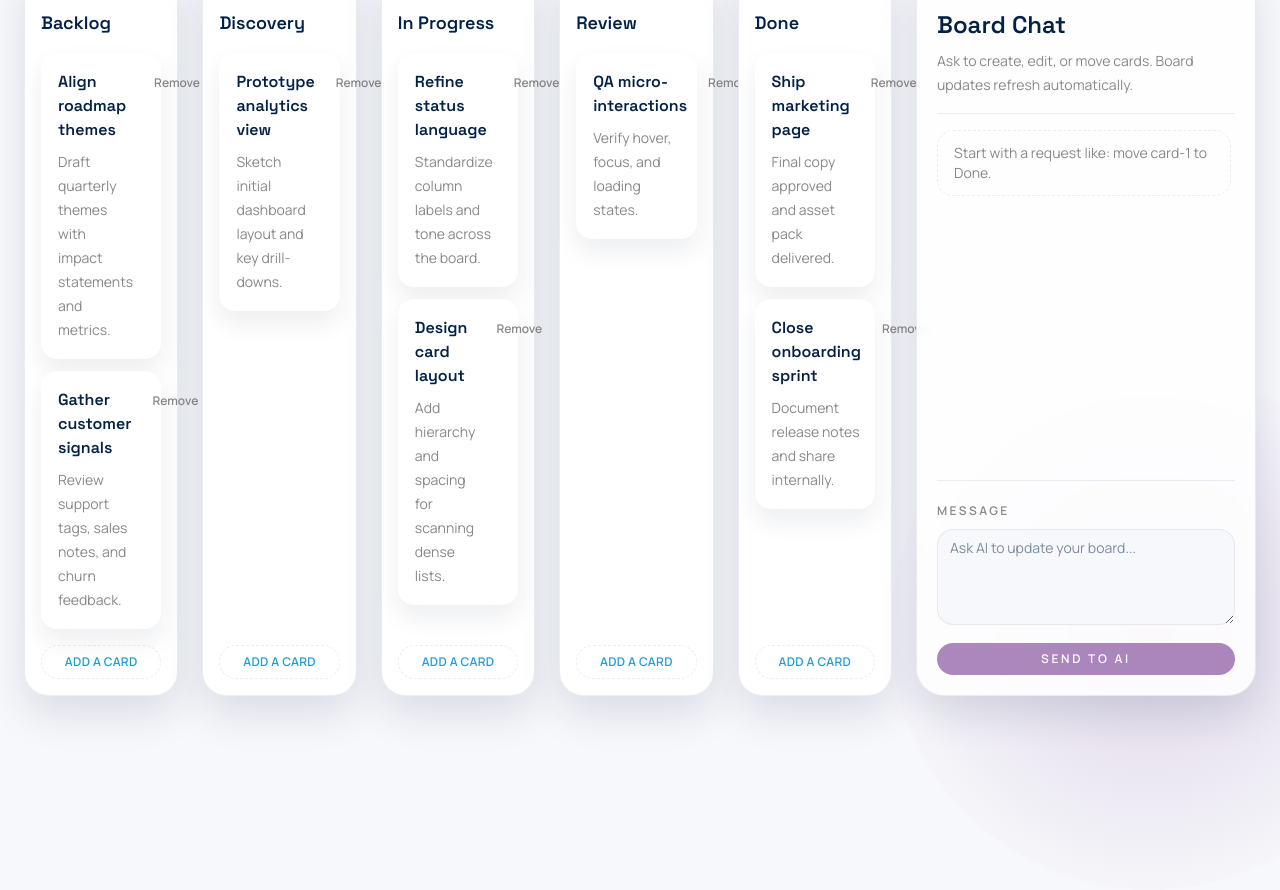
Test: KanbanBoard › shows error when AI chat request fails
This screenshot has width=1280, height=890.
(page scrolled)
Type "trigger error" into the text box labelled "Message" at (1086, 577), box [937,529,1235,625]
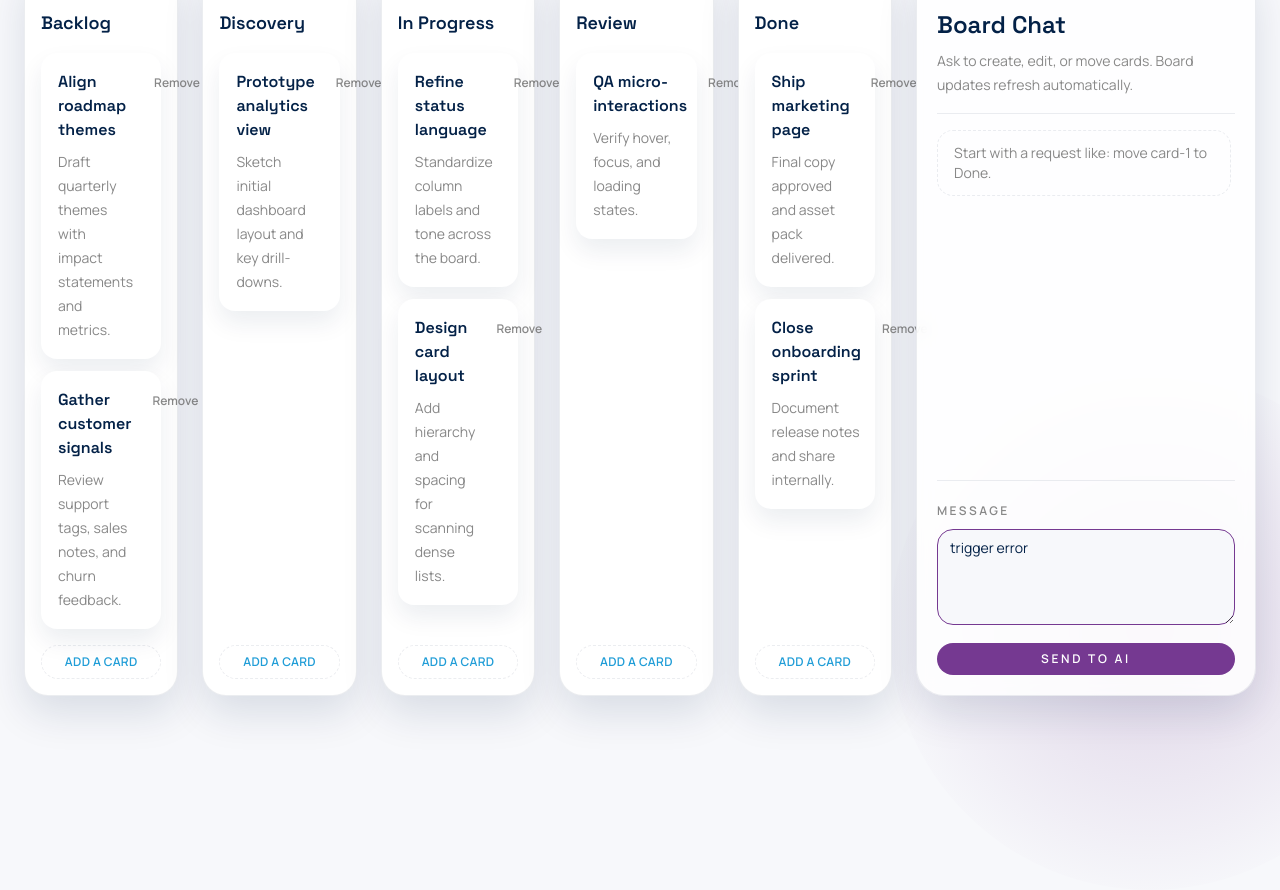
Click the button "Send to AI" at (1086, 659), box [937,643,1235,675]
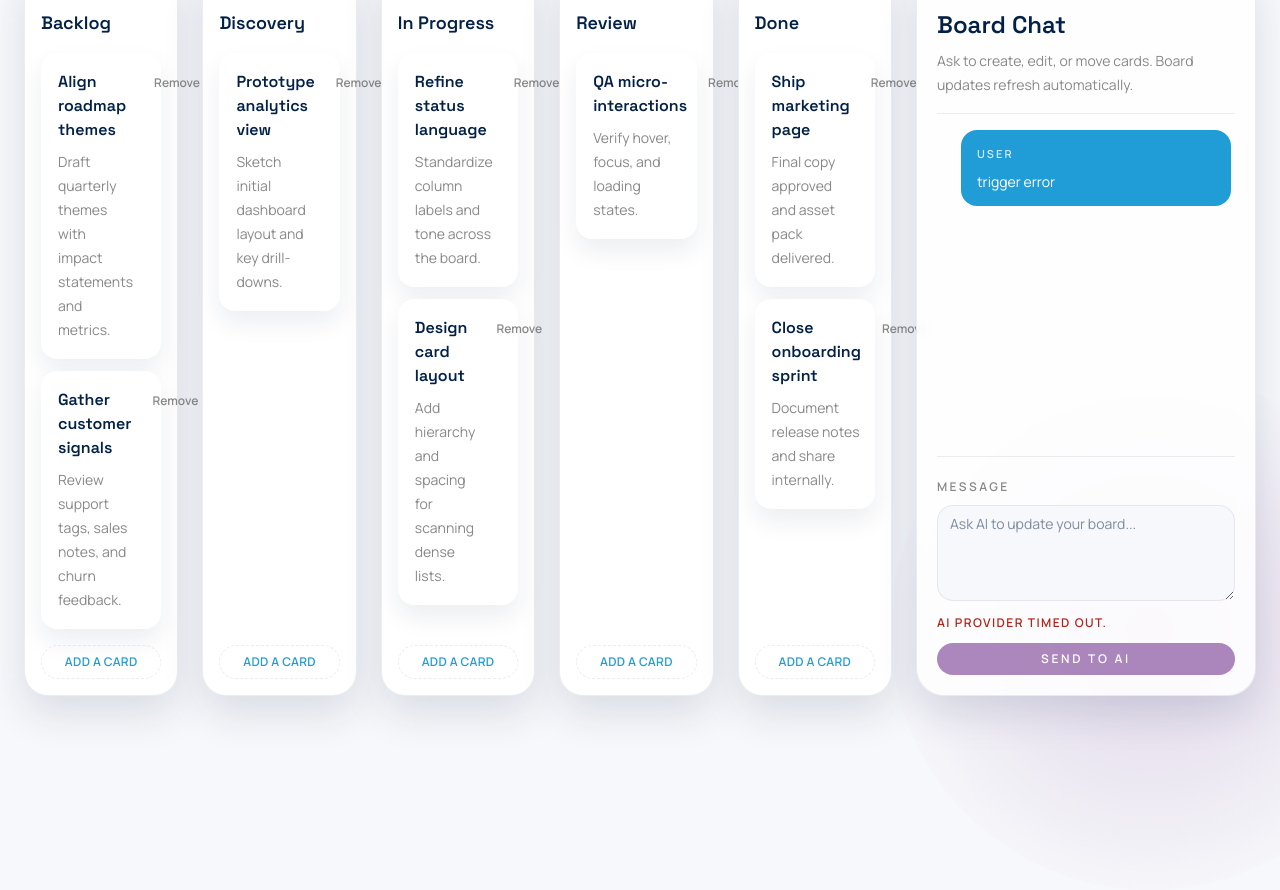
Expected: the text "AI provider timed out." is shown, [937,614,1107,631]
